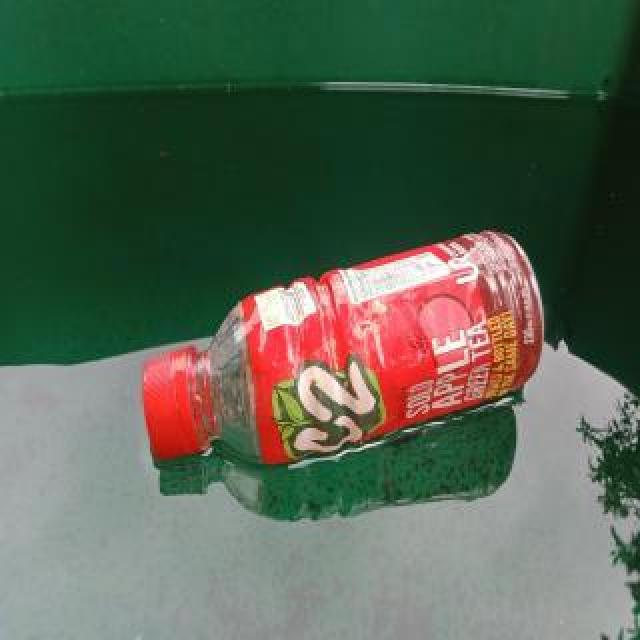bottle: (141, 230, 545, 472)
